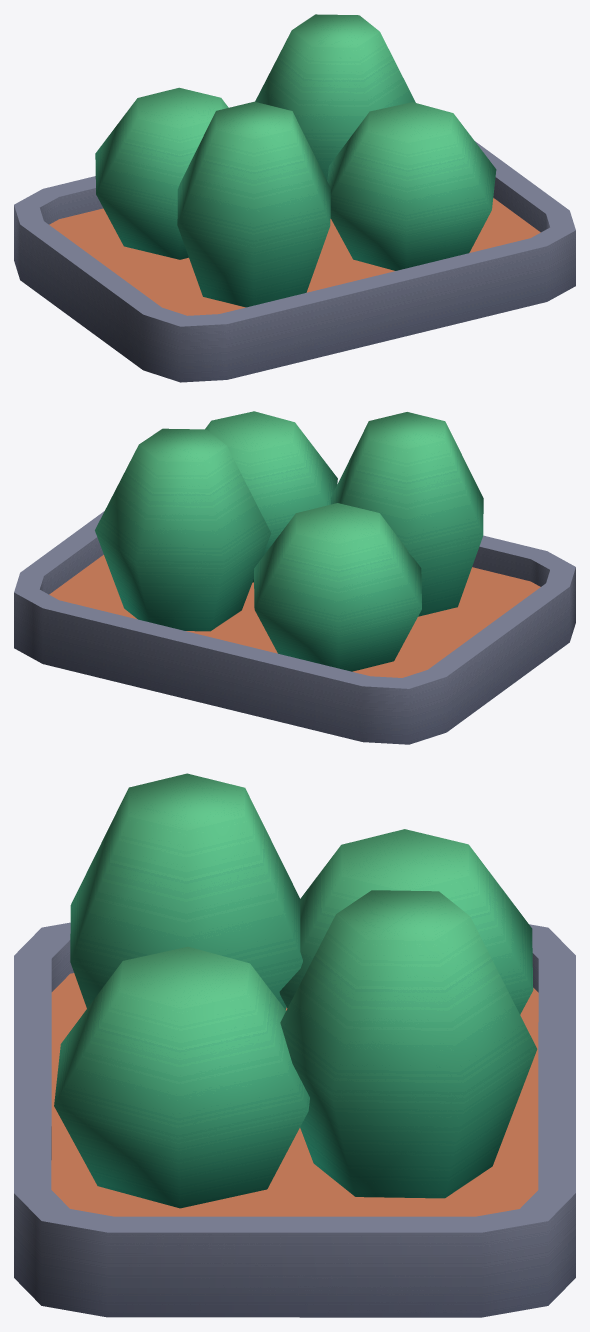
Rendered from planter.075_lev3.glb.
The picture shows the model from 3 angles, top to bottom: view 1: azimuth 30°, elevation 25°; view 2: azimuth 150°, elevation 25°; view 3: azimuth 270°, elevation 25°; orthographic projection. The views are drawn at different scales.
Visible parts, largest first — view 1: planter.075_lev3; view 2: planter.075_lev3; view 3: planter.075_lev3.
Boxes of the visible parts, x1,y1,x2,y2 form: planter.075_lev3: (14,14,575,382); planter.075_lev3: (14,411,575,744); planter.075_lev3: (14,773,575,1317).
Size of the model in its own units: 1.6 by 0.7084 by 1.2.
1 material, 1 textured.
